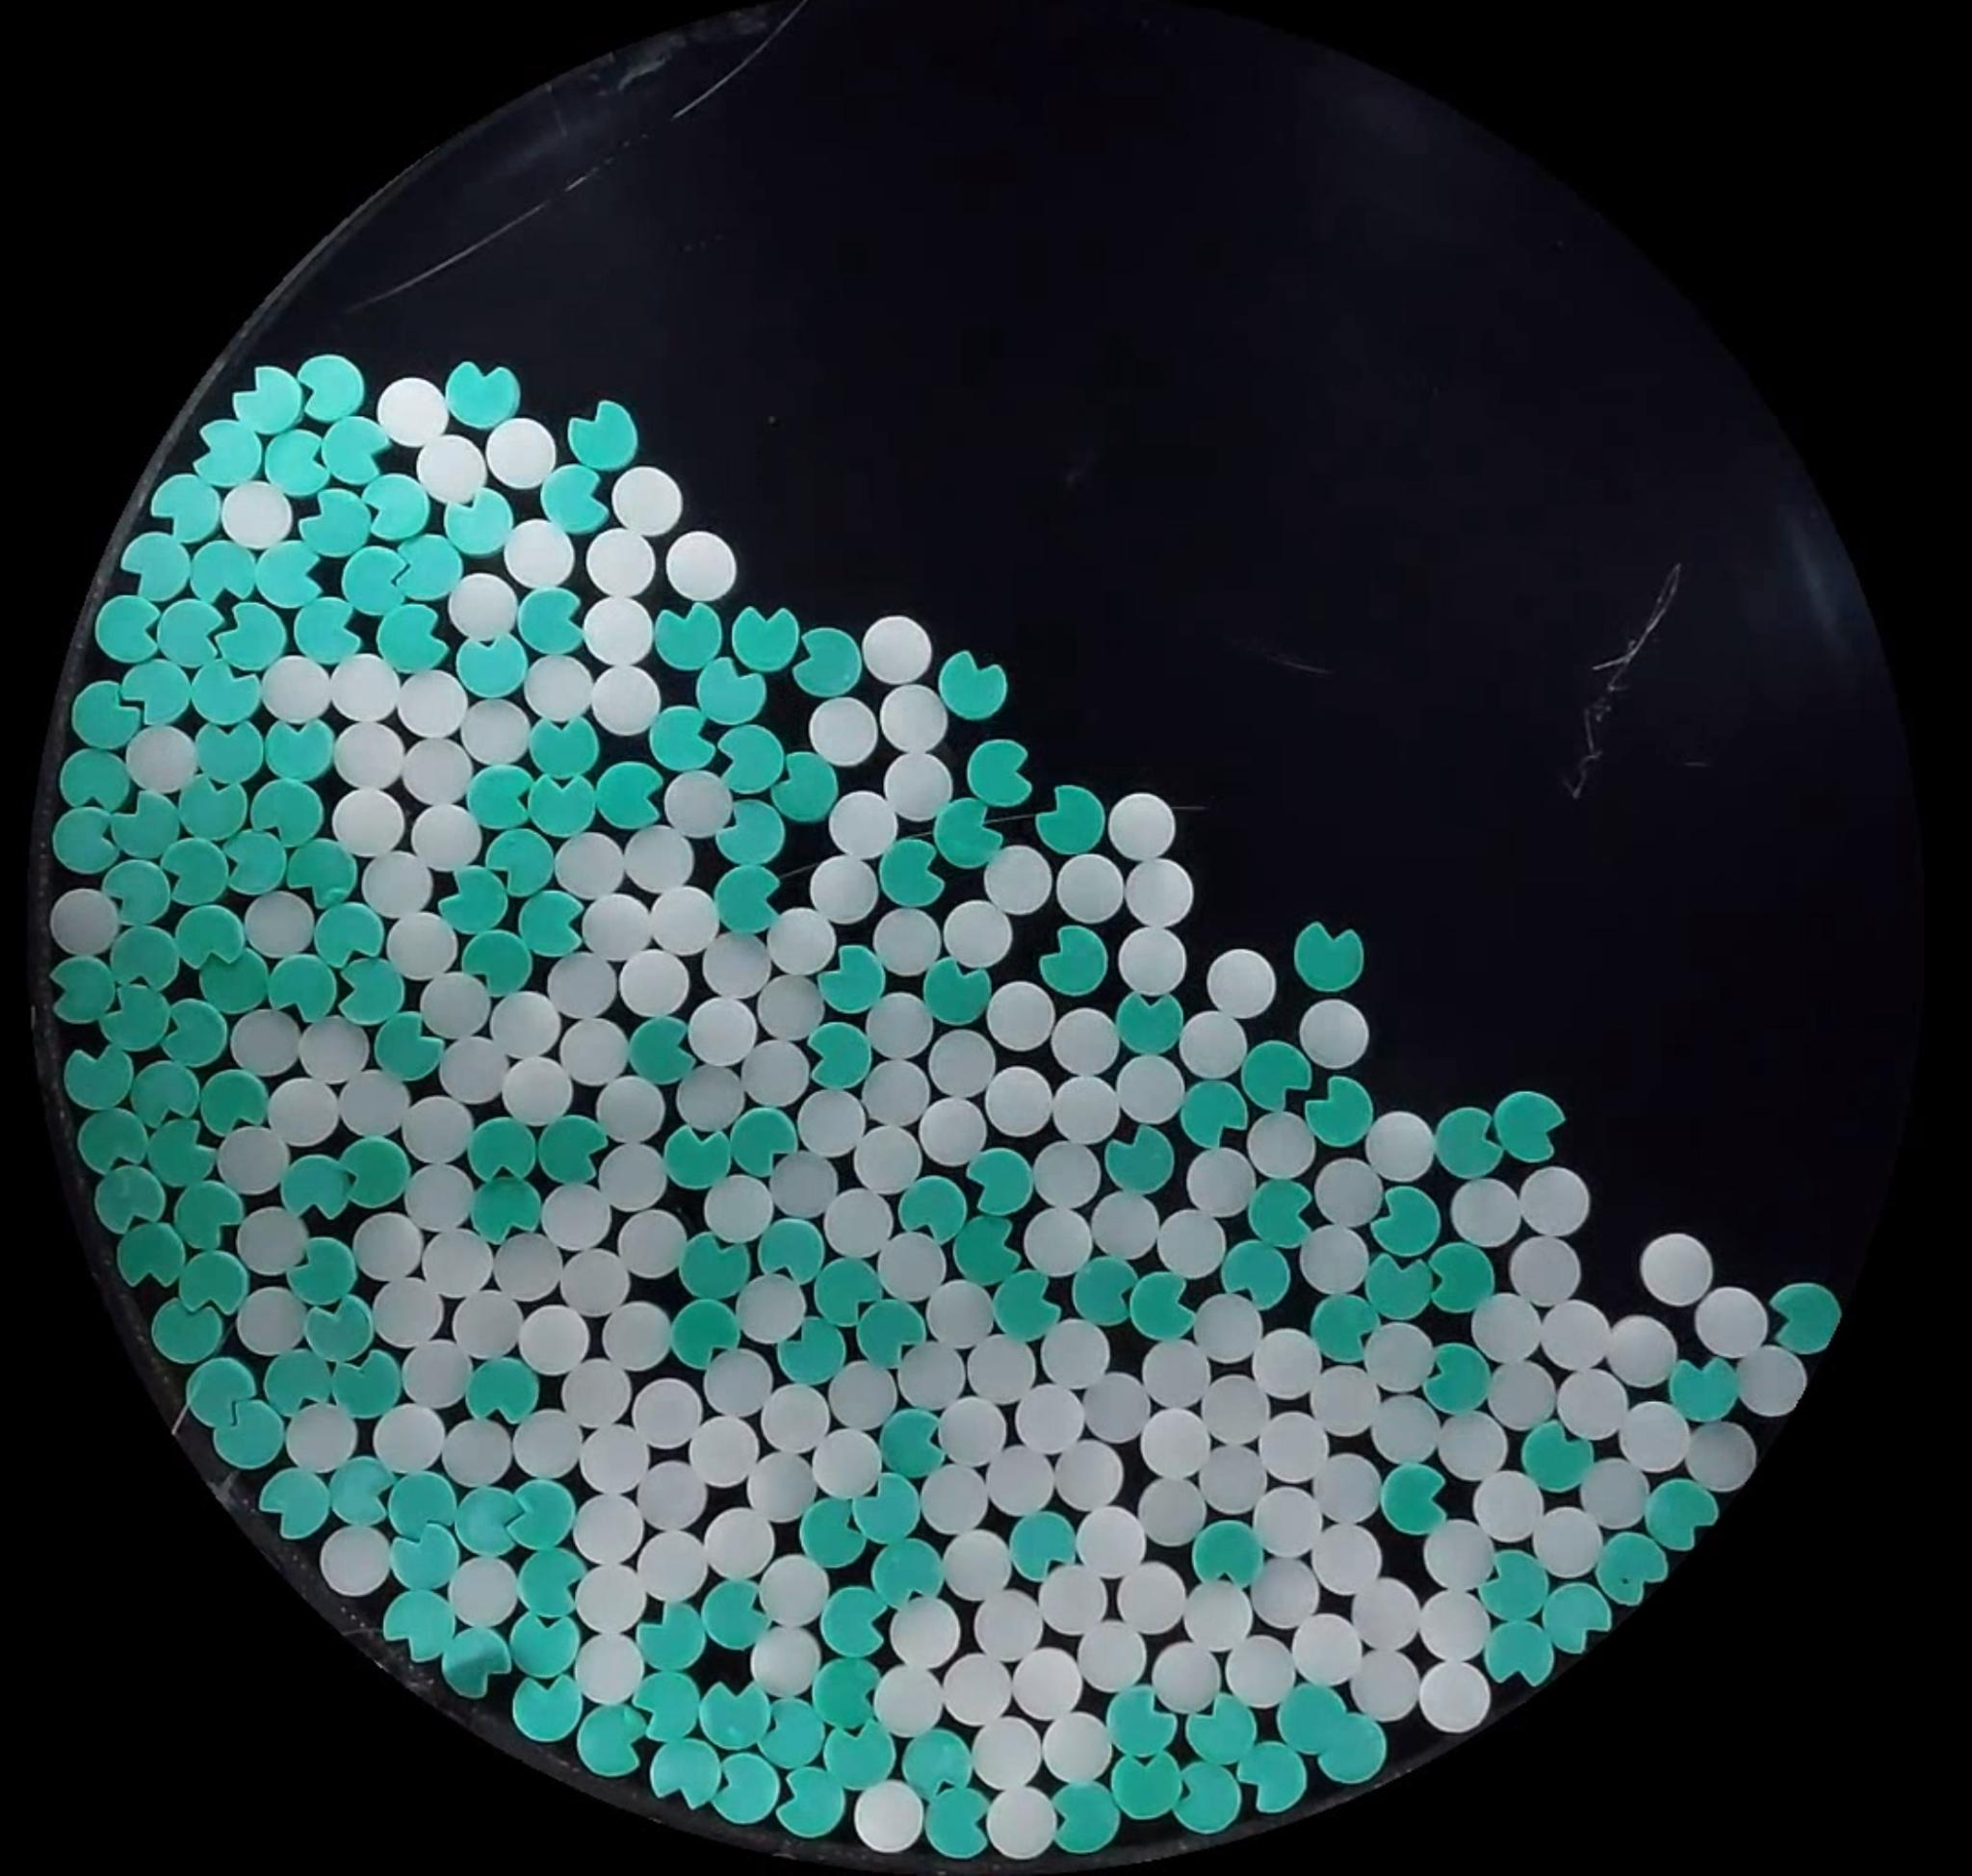no-convexa1: (1287, 916, 1377, 993), (796, 1492, 884, 1569), (393, 527, 475, 608), (641, 1726, 722, 1809), (283, 583, 366, 661), (116, 657, 199, 731), (248, 532, 324, 611), (261, 949, 340, 1025), (1173, 1075, 1252, 1150), (1247, 1173, 1322, 1251), (1100, 1680, 1178, 1756), (155, 587, 224, 671), (188, 654, 264, 729), (111, 786, 187, 861), (48, 949, 120, 1029), (222, 592, 291, 675), (1313, 1707, 1387, 1783), (384, 1589, 458, 1665), (567, 398, 641, 474), (438, 1624, 512, 1700), (1768, 1281, 1843, 1355), (875, 835, 949, 911), (445, 359, 523, 432), (338, 1136, 412, 1210), (387, 1520, 461, 1594), (509, 1610, 583, 1684), (185, 1356, 259, 1430), (1491, 1089, 1565, 1163), (257, 1466, 333, 1538), (850, 1473, 923, 1548), (646, 698, 717, 775), (875, 1406, 946, 1483), (630, 1666, 699, 1746), (1361, 1254, 1440, 1323), (157, 828, 224, 909), (313, 902, 387, 974), (516, 1545, 588, 1619), (453, 1485, 525, 1559), (211, 1399, 285, 1471), (1521, 1422, 1595, 1494), (185, 534, 259, 606), (1479, 1548, 1549, 1624), (174, 1178, 245, 1254), (93, 585, 164, 661), (137, 1117, 215, 1185), (1071, 1254, 1139, 1332), (636, 1598, 703, 1677), (456, 763, 537, 828), (512, 1672, 585, 1744), (537, 1115, 609, 1187), (331, 1346, 403, 1418), (174, 900, 246, 972), (504, 1480, 576, 1552), (384, 1469, 456, 1541), (92, 1163, 164, 1235), (264, 1346, 336, 1418), (812, 1656, 882, 1730), (118, 1221, 188, 1295), (1278, 1682, 1349, 1756), (199, 944, 273, 1015), (129, 1057, 202, 1127), (810, 1251, 884, 1321), (1125, 1274, 1199, 1344), (102, 851, 171, 927), (1308, 1300, 1384, 1369), (266, 423, 329, 504), (252, 777, 324, 847), (699, 1578, 769, 1651), (727, 1104, 798, 1177), (285, 838, 357, 909), (1009, 1510, 1079, 1582), (440, 865, 511, 937), (872, 1536, 944, 1606), (467, 1355, 539, 1425), (178, 1249, 248, 1321), (1372, 1185, 1442, 1258), (109, 923, 181, 993), (1305, 1076, 1375, 1148), (669, 1298, 739, 1370), (285, 1237, 357, 1307), (815, 944, 887, 1015), (731, 604, 803, 675), (305, 1293, 375, 1365), (1667, 1355, 1740, 1425), (1243, 1041, 1313, 1113), (1190, 1518, 1262, 1589), (1220, 1242, 1292, 1312), (576, 1703, 644, 1777), (150, 474, 224, 543), (218, 824, 287, 898), (336, 956, 407, 1027), (854, 1296, 924, 1367), (713, 863, 784, 934), (377, 602, 447, 673), (923, 955, 993, 1025), (697, 1680, 768, 1751), (778, 1767, 849, 1837), (62, 1045, 132, 1115), (697, 655, 768, 726), (822, 1719, 893, 1790), (195, 715, 266, 786), (1483, 1619, 1553, 1689), (1597, 1531, 1667, 1601), (1645, 1480, 1715, 1550), (60, 747, 132, 816), (924, 1784, 993, 1857), (120, 532, 192, 601), (1433, 1106, 1502, 1178), (1238, 1740, 1306, 1813), (940, 650, 1009, 722), (231, 366, 303, 435), (150, 1296, 222, 1365), (157, 997, 225, 1069), (74, 1104, 146, 1173), (373, 1013, 444, 1082), (518, 888, 586, 958), (468, 1117, 537, 1187), (715, 800, 785, 868), (965, 1147, 1034, 1217), (70, 682, 141, 750), (717, 724, 787, 793), (1426, 1240, 1495, 1311), (710, 1756, 780, 1825), (1037, 784, 1106, 854), (541, 463, 611, 532), (486, 826, 555, 897), (1423, 1344, 1491, 1414), (363, 474, 433, 543), (342, 546, 412, 615), (769, 750, 838, 821), (1104, 1124, 1174, 1193), (528, 713, 599, 782), (199, 1067, 269, 1136), (1542, 1582, 1611, 1652), (1380, 1462, 1449, 1533), (444, 488, 514, 557), (1041, 927, 1109, 997), (461, 930, 533, 997), (299, 490, 372, 557), (759, 1214, 826, 1286), (100, 981, 166, 1055), (820, 1587, 889, 1656), (806, 1022, 875, 1090), (178, 773, 246, 842), (1051, 1786, 1120, 1855), (1185, 1695, 1254, 1763), (935, 800, 1004, 868), (678, 1231, 747, 1300), (264, 717, 335, 784), (280, 1156, 350, 1222), (662, 1122, 732, 1189), (1111, 1753, 1181, 1820), (655, 599, 722, 669), (194, 419, 264, 486), (51, 807, 120, 874), (595, 759, 662, 828), (320, 417, 389, 484), (903, 1730, 972, 1797), (627, 1016, 694, 1085), (518, 585, 585, 654), (528, 770, 597, 837), (1115, 988, 1183, 1055), (794, 625, 861, 694), (898, 1175, 965, 1244), (456, 634, 526, 699), (326, 1462, 398, 1525), (757, 1695, 817, 1770), (472, 1177, 539, 1244), (1176, 1762, 1241, 1830), (298, 354, 366, 419), (953, 1210, 1018, 1279), (776, 1319, 843, 1385), (776, 1776, 845, 1839), (967, 738, 1030, 805), (997, 1272, 1056, 1337)
